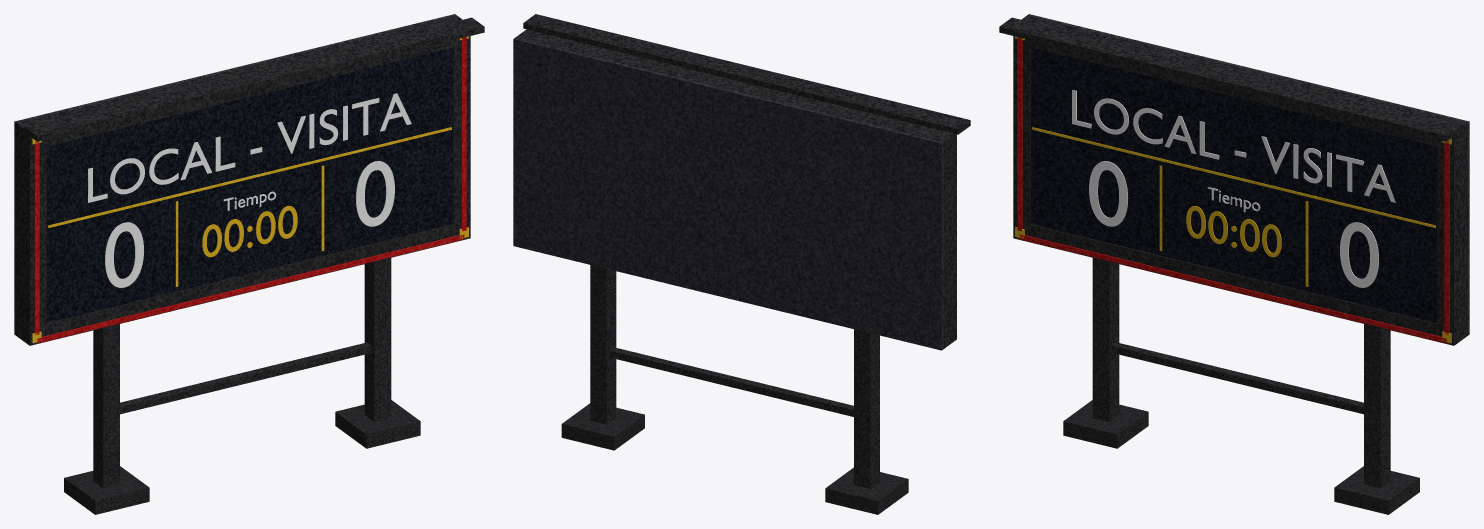
File: scoreboard.obj
The picture shows the model from 3 angles, left to right: view 1: azimuth 30°, elevation 25°; view 2: azimuth 150°, elevation 25°; view 3: azimuth 330°, elevation 25°; orthographic projection. The views are drawn at different scales.
Parts seen in each view (by area): view 1: Screen_Panel, Scoreboard_Frame, Scoreboard_Legs, Details_Visor, Details_Bands, Scoreboard_Feet, Screen_Title, Screen_Lines, Scoreboard_Back, Screen_Clock, Score_Visita, Score_Local; view 2: Scoreboard_Back, Scoreboard_Legs, Details_Visor, Scoreboard_Frame, Scoreboard_Feet; view 3: Screen_Panel, Scoreboard_Frame, Scoreboard_Legs, Details_Visor, Details_Bands, Scoreboard_Feet, Screen_Title, Screen_Lines, Scoreboard_Back, Screen_Clock, Score_Local, Score_Visita.
Boxes of the visible parts, x1=… form: Screen_Panel: x1=46, y1=47, x2=452, y2=322; Scoreboard_Frame: x1=16, y1=15, x2=470, y2=345; Scoreboard_Legs: x1=93, y1=258, x2=391, y2=488; Details_Visor: x1=24, y1=17, x2=484, y2=141; Details_Bands: x1=34, y1=37, x2=466, y2=343; Scoreboard_Feet: x1=64, y1=400, x2=420, y2=514; Screen_Title: x1=88, y1=93, x2=411, y2=202; Screen_Lines: x1=48, y1=127, x2=451, y2=286; Scoreboard_Back: x1=14, y1=14, x2=456, y2=335; Screen_Clock: x1=202, y1=206, x2=297, y2=257; Score_Visita: x1=355, y1=161, x2=394, y2=226; Score_Local: x1=105, y1=222, x2=143, y2=287; Scoreboard_Back: x1=513, y1=37, x2=943, y2=350; Scoreboard_Legs: x1=590, y1=265, x2=879, y2=488; Details_Visor: x1=523, y1=14, x2=970, y2=134; Scoreboard_Frame: x1=515, y1=29, x2=956, y2=348; Scoreboard_Feet: x1=561, y1=403, x2=908, y2=514; Screen_Panel: x1=1031, y1=47, x2=1437, y2=322; Scoreboard_Frame: x1=1013, y1=15, x2=1467, y2=345; Scoreboard_Legs: x1=1092, y1=258, x2=1390, y2=488; Details_Visor: x1=999, y1=17, x2=1459, y2=141; Details_Bands: x1=1017, y1=37, x2=1449, y2=343; Scoreboard_Feet: x1=1063, y1=400, x2=1419, y2=514; Screen_Title: x1=1072, y1=90, x2=1395, y2=202; Screen_Lines: x1=1032, y1=127, x2=1435, y2=286; Scoreboard_Back: x1=1027, y1=14, x2=1469, y2=335; Screen_Clock: x1=1186, y1=206, x2=1281, y2=257; Score_Local: x1=1089, y1=161, x2=1128, y2=226; Score_Visita: x1=1340, y1=222, x2=1378, y2=287.
Bounding box in the file's own units: 13.2 × 11.16 × 1.75.
Materials: 6 (6 with a texture image).
